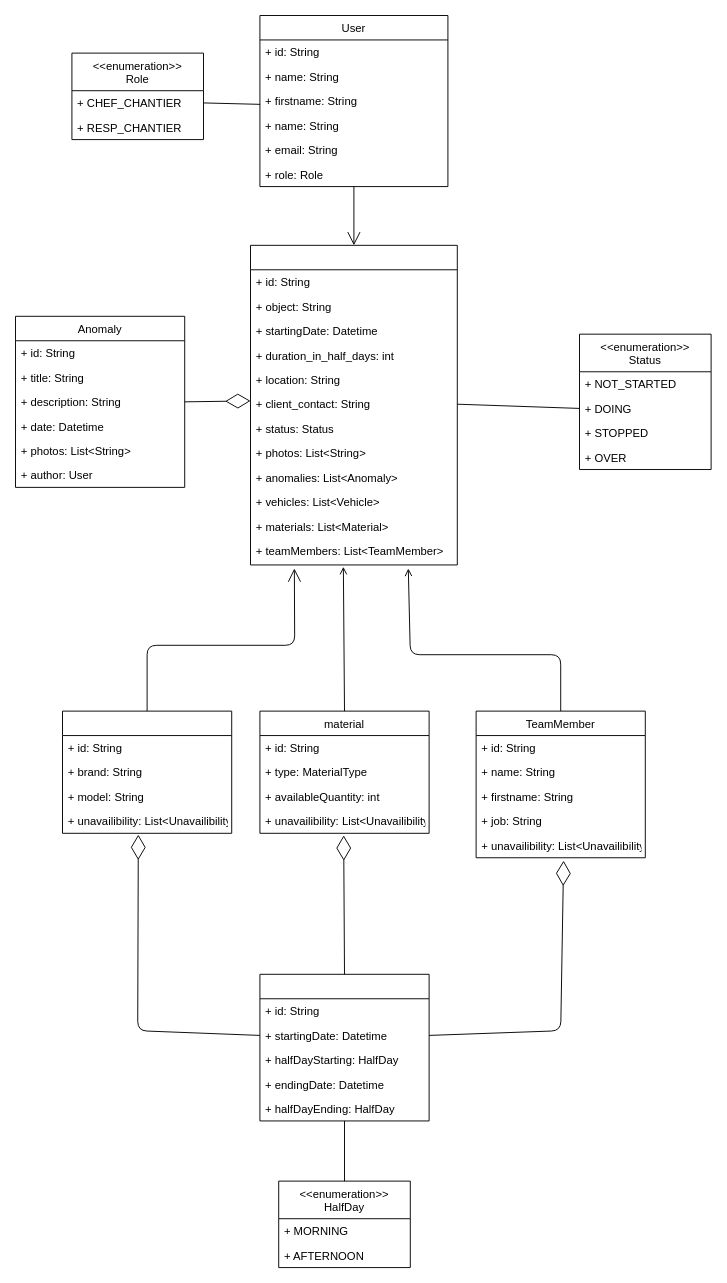
Some shapes in this 727 by 1283 pixel diagram are drawn without their labels. Each missing label, with the box of its shape:
ConstructionSite: (250, 244, 457, 565)
Unavailability: (259, 973, 429, 1121)
Vehicle: (62, 710, 232, 833)
